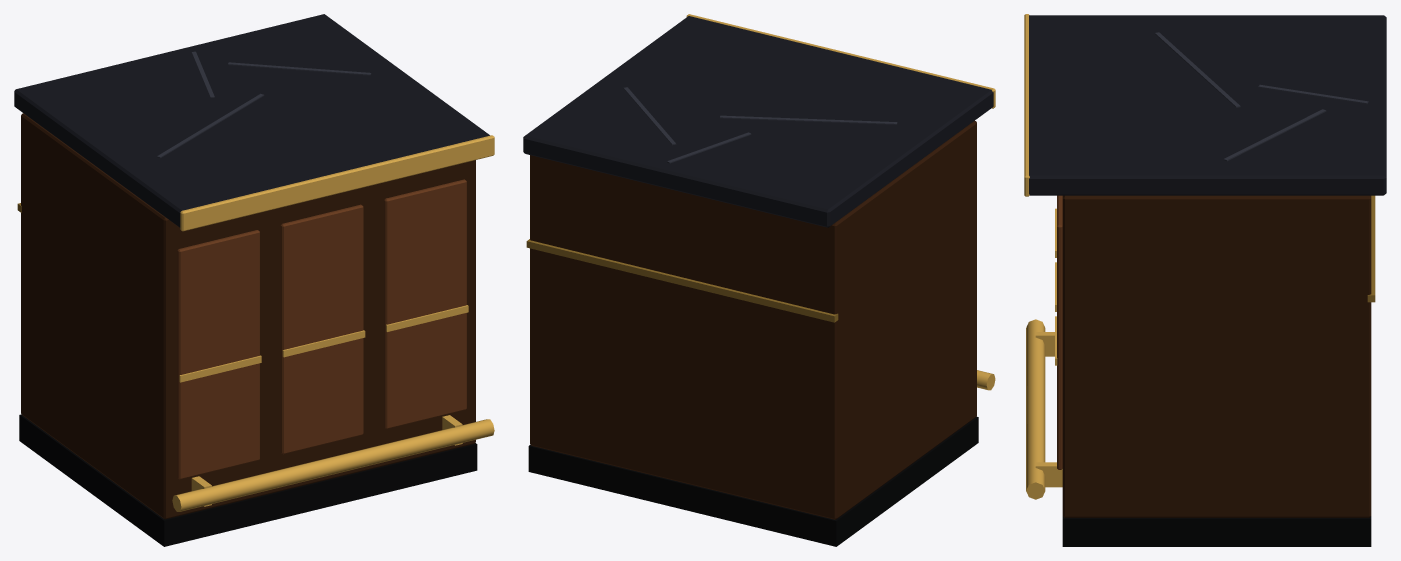
File: bar_counter.glb
3 views of the same model, side by side, from view 1: azimuth 30°, elevation 25°; view 2: azimuth 150°, elevation 25°; view 3: azimuth 270°, elevation 25° (orthographic). The views are drawn at different scales.
Visible parts, largest first — view 1: bar_counter; view 2: bar_counter; view 3: bar_counter.
Part boxes in pixels (x1,y1,x2,y2): bar_counter: [14, 14, 494, 546]; bar_counter: [523, 14, 995, 546]; bar_counter: [1024, 14, 1386, 546].
Bounding box in the file's own units: 1 × 1.06 × 0.94.
